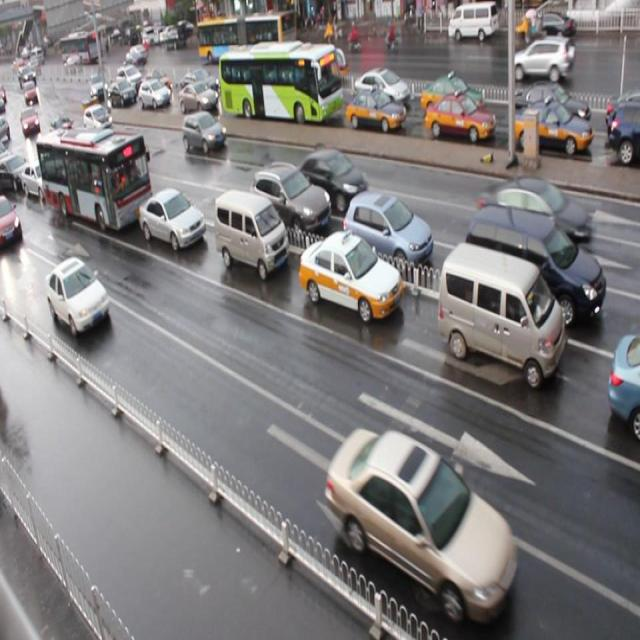car: (322, 424, 516, 618), (299, 228, 402, 322), (479, 174, 591, 258), (343, 194, 433, 278), (252, 163, 332, 234), (45, 258, 109, 337), (295, 150, 369, 213), (513, 100, 593, 158), (138, 186, 206, 251), (425, 91, 496, 142), (608, 331, 640, 436), (507, 84, 582, 128), (422, 76, 487, 120), (345, 86, 405, 133), (352, 68, 408, 110), (608, 98, 640, 160), (183, 113, 227, 155), (599, 92, 640, 136), (21, 158, 60, 203), (0, 192, 22, 251), (179, 83, 219, 115), (1, 153, 32, 192), (242, 69, 277, 103), (63, 132, 96, 165), (185, 69, 223, 97), (140, 79, 172, 112), (84, 104, 114, 138), (118, 64, 144, 94), (110, 81, 136, 109), (142, 68, 169, 94), (52, 115, 77, 140)
truck: (437, 240, 565, 388), (466, 200, 606, 331), (212, 187, 288, 280)
van: (36, 126, 154, 235), (216, 42, 340, 124)
